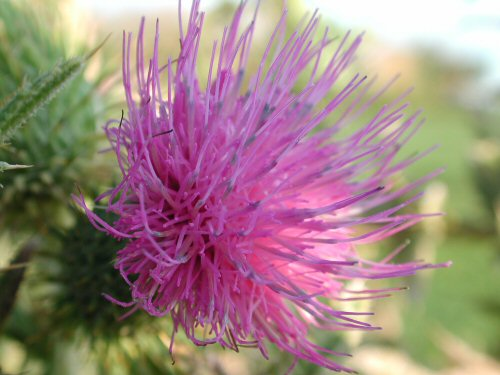thistle: (99, 3, 441, 375)
